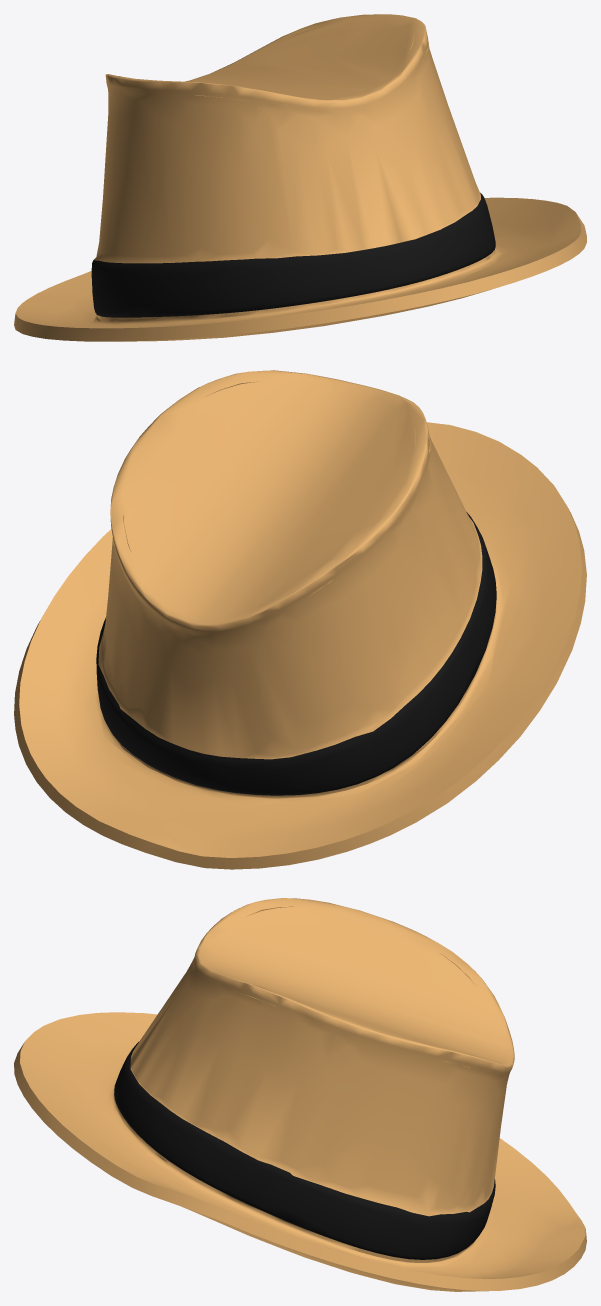
Rendered from headwear-hat-yellow-1d3ac020.glb.
The picture shows the model from 3 angles, top to bottom: view 1: azimuth 30°, elevation 25°; view 2: azimuth 150°, elevation 25°; view 3: azimuth 270°, elevation 25°; orthographic projection. The views are drawn at different scales.
Parts seen in each view (by area): view 1: Geo_Black_Old_Male_Hat_Yellow.001; view 2: Geo_Black_Old_Male_Hat_Yellow.001; view 3: Geo_Black_Old_Male_Hat_Yellow.001.
Part boxes in pixels (<box>): Geo_Black_Old_Male_Hat_Yellow.001: <box>14,14,586,341</box>; Geo_Black_Old_Male_Hat_Yellow.001: <box>14,370,586,869</box>; Geo_Black_Old_Male_Hat_Yellow.001: <box>14,898,586,1291</box>.
Size of the model in its own units: 2.22 by 1.48 by 2.55.
